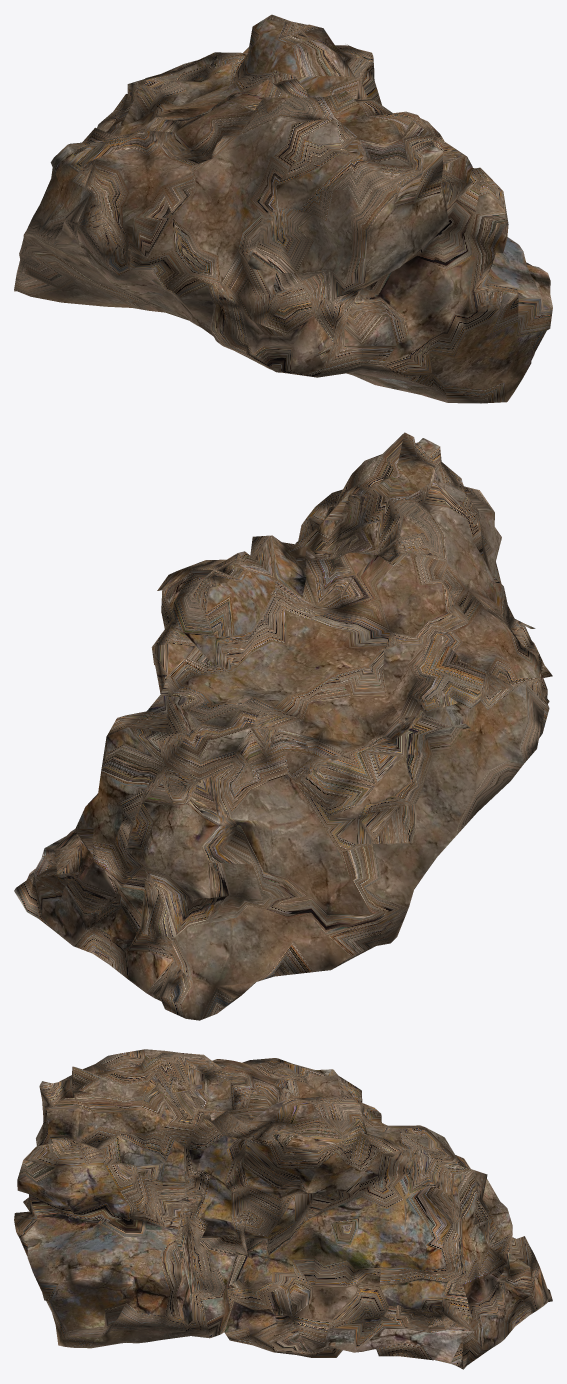
File: boulder.glb
3 renders of one model, top to bottom at view 1: azimuth 30°, elevation 25°; view 2: azimuth 150°, elevation 25°; view 3: azimuth 270°, elevation 25°, orthographic. The views are drawn at different scales.
Visible parts, largest first — view 1: boulder_01; view 2: boulder_01; view 3: boulder_01.
Part boxes in pixels (left/top/right/bottom): boulder_01: left=14, top=14, right=552, bottom=403; boulder_01: left=14, top=432, right=552, bottom=1020; boulder_01: left=14, top=1049, right=552, bottom=1369.
Size of the model in its own units: 1.26 by 1 by 1.82.
Materials: 1 (1 with a texture image).
